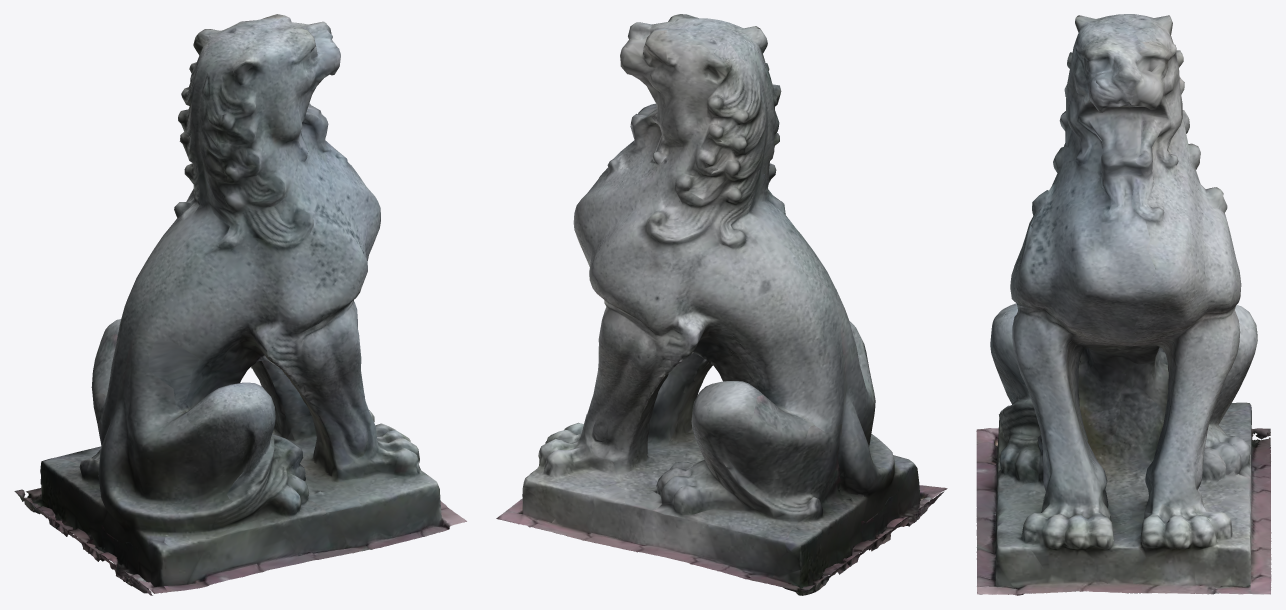
File: komainu-a.glb
The picture shows the model from 3 angles, left to right: view 1: azimuth 30°, elevation 25°; view 2: azimuth 150°, elevation 25°; view 3: azimuth 270°, elevation 25°; orthographic projection. The views are drawn at different scales.
Parts seen in each view (by area): view 1: Object_2; view 2: Object_2; view 3: Object_2.
Boxes of the visible parts, left/top/right/bottom form: Object_2: left=14, top=14, right=466, bottom=595; Object_2: left=496, top=14, right=947, bottom=595; Object_2: left=976, top=14, right=1271, bottom=595.
Bounding box in the file's own units: 1.14 × 1.67 × 0.8805.
1 material, 1 textured.
